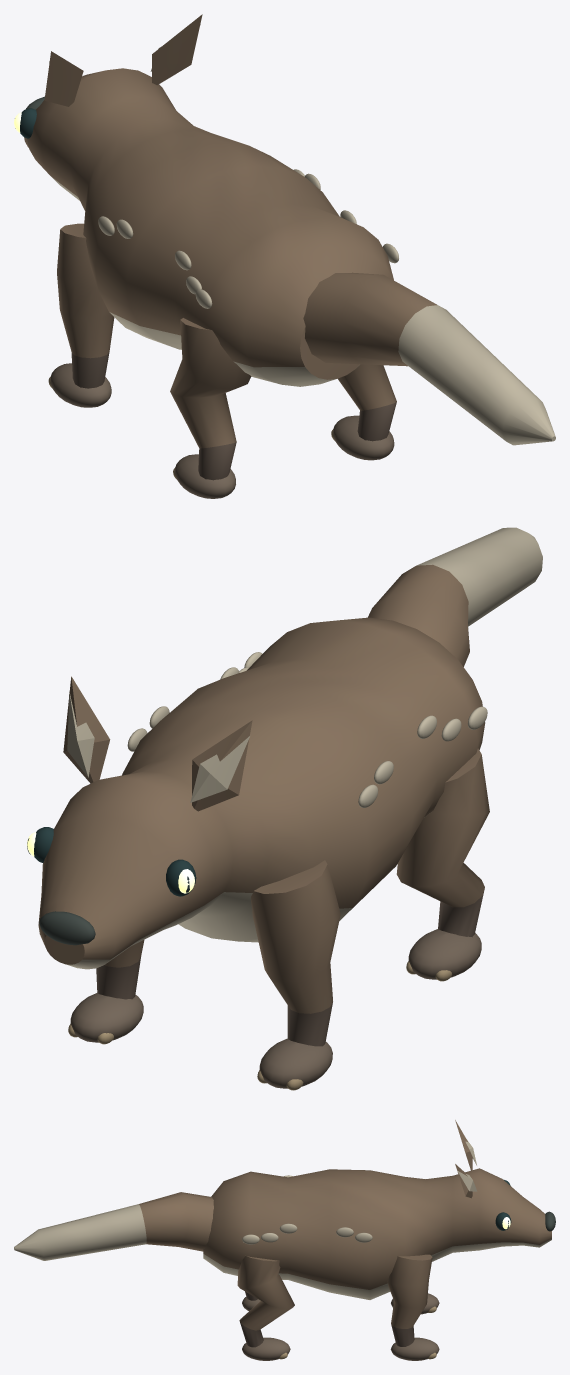
The model's file is forest_prey.glb.
3 renders of one model, top to bottom at view 1: azimuth 30°, elevation 25°; view 2: azimuth 150°, elevation 25°; view 3: azimuth 270°, elevation 25°, orthographic. The views are drawn at different scales.
Visible parts, largest first — view 1: Body, Walk02, Walk00, Walk03; view 2: Body, Walk00, Walk02, Walk01; view 3: Body, Walk03, Walk01.
Part boxes in pixels (left/top/right/bottom): Body: left=14, top=14, right=555, bottom=445; Walk02: left=170, top=318, right=251, bottom=498; Walk00: left=48, top=223, right=114, bottom=407; Walk03: left=331, top=364, right=396, bottom=460; Body: left=27, top=527, right=542, bottom=969; Walk00: left=251, top=860, right=340, bottom=1090; Walk02: left=396, top=748, right=489, bottom=981; Walk01: left=68, top=940, right=144, bottom=1044; Body: left=14, top=1120, right=555, bottom=1299; Walk03: left=237, top=1256, right=294, bottom=1360; Walk01: left=387, top=1254, right=439, bottom=1360.
Size of the model in its own units: 0.704 by 1.04 by 2.62.
Materials: 2 (1 with a texture image).
